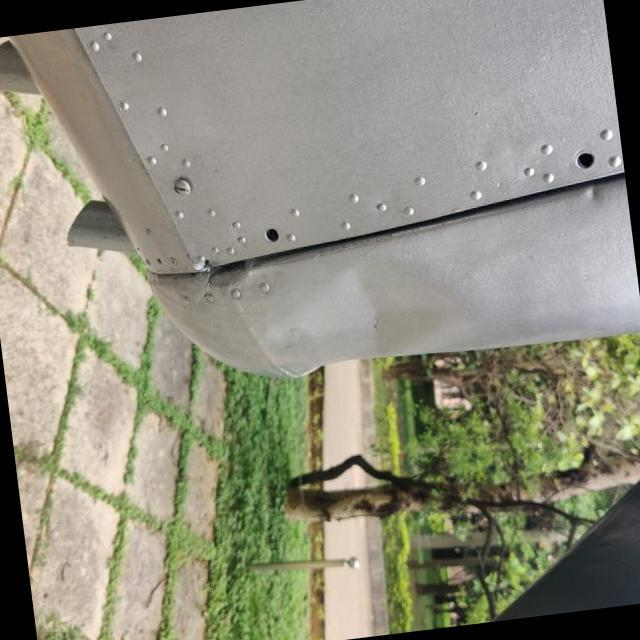Fastener Damage: (243, 214, 300, 271), (556, 134, 612, 190)
